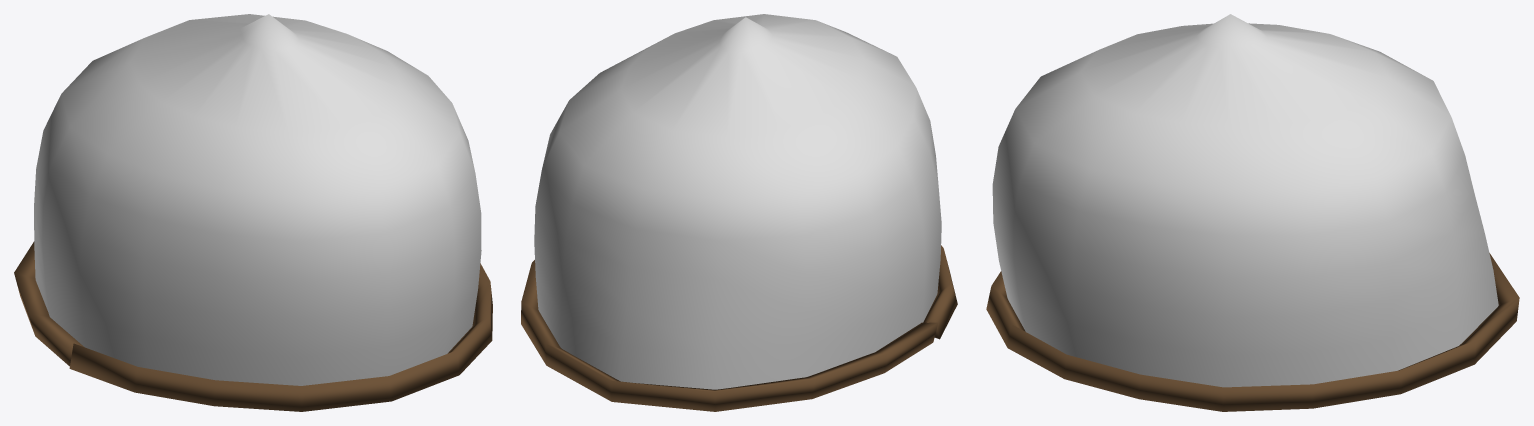
The model's file is wood_helmet.glb.
3 renders of one model, left to right at view 1: azimuth 30°, elevation 25°; view 2: azimuth 150°, elevation 25°; view 3: azimuth 270°, elevation 25°, orthographic. The views are drawn at different scales.
Parts seen in each view (by area): view 1: wood_helmet_head; view 2: wood_helmet_head; view 3: wood_helmet_head.
Part boxes in pixels (<box>): wood_helmet_head: <box>14,14,492,411</box>; wood_helmet_head: <box>521,14,957,411</box>; wood_helmet_head: <box>986,14,1519,411</box>.
Bounding box in the file's own units: 0.2443 × 0.1781 × 0.2801.
